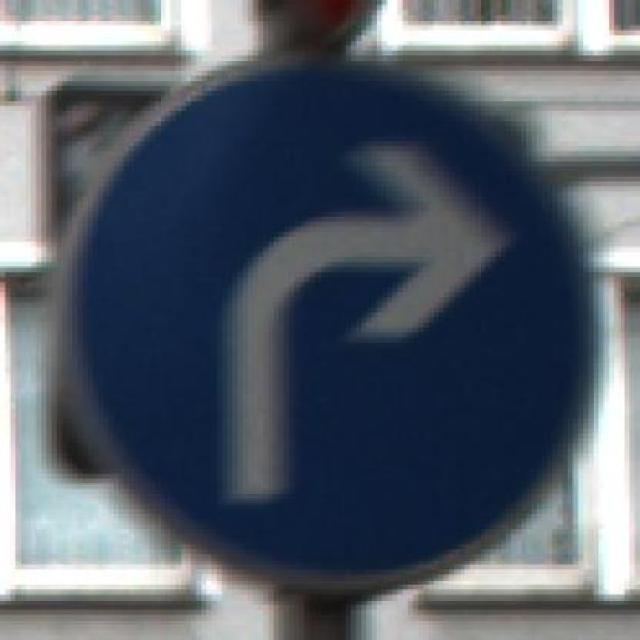Turn right ahead: (41, 56, 604, 584)
